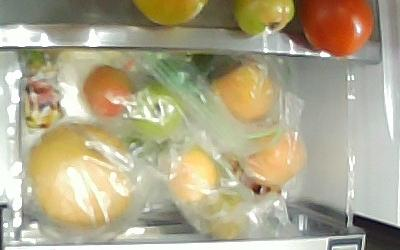peach_vinyl: (211, 60, 274, 123), (245, 128, 308, 184)
pear_vinyl: (29, 123, 130, 232)
tangerine_vinyl: (169, 146, 220, 203), (200, 191, 249, 240)
tomato_vinyl: (132, 85, 182, 138), (83, 65, 134, 116)
